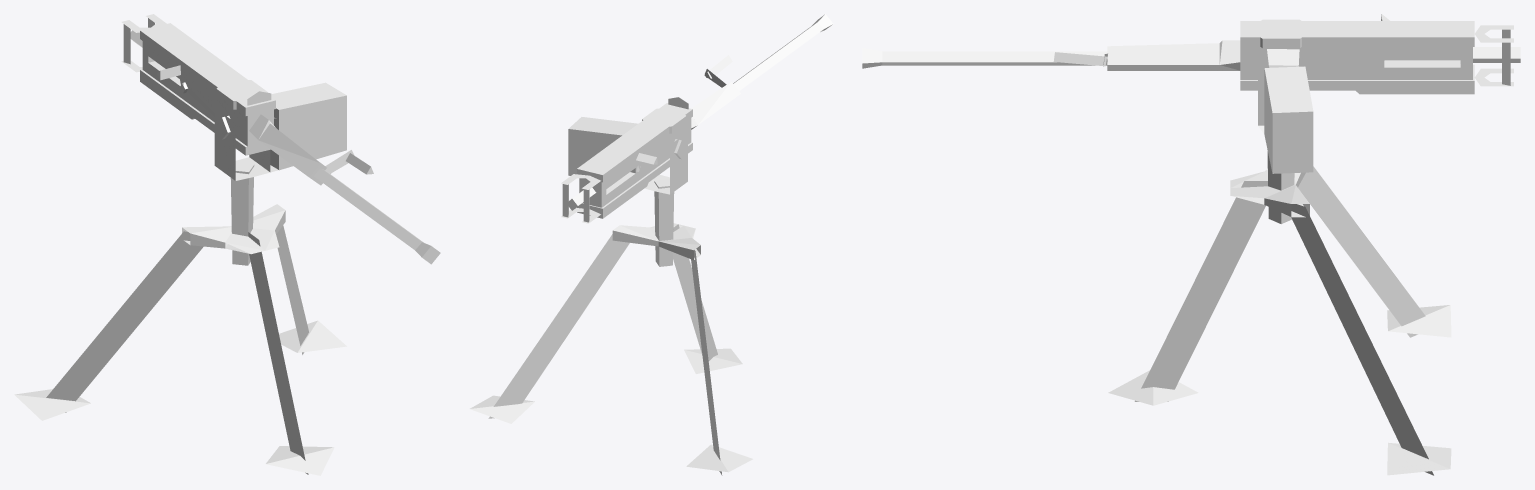
Rendered from m2Machinegun.glb.
3 views of the same model, side by side, from view 1: azimuth 30°, elevation 25°; view 2: azimuth 150°, elevation 25°; view 3: azimuth 270°, elevation 25° (orthographic). The views are drawn at different scales.
Visible parts, largest first — view 1: m2_Machinegun; view 2: m2_Machinegun; view 3: m2_Machinegun.
Part boxes in pixels (bbox=[...]): m2_Machinegun: bbox=[14, 14, 440, 475]; m2_Machinegun: bbox=[470, 14, 833, 475]; m2_Machinegun: bbox=[862, 14, 1520, 475].
Size of the model in its own units: 1.36 by 1.48 by 2.28.
2 materials, 2 textured.
